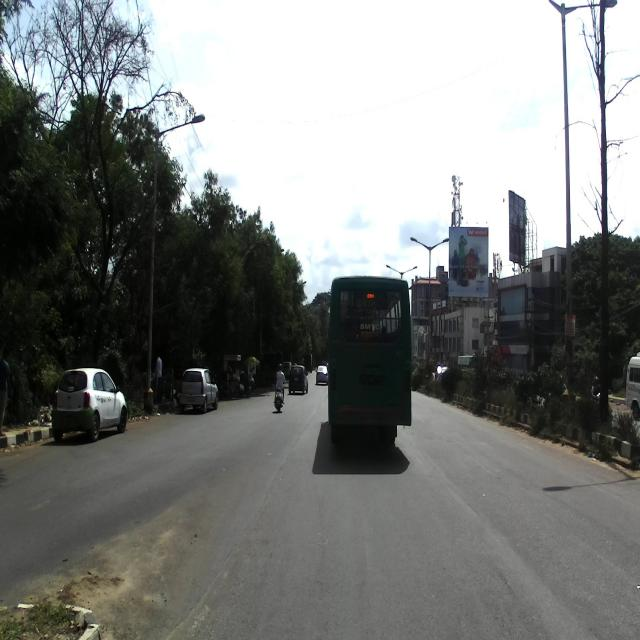Car_Nissan: (51, 367, 127, 442)
Car_TATA: (180, 365, 219, 412)
bus: (324, 273, 412, 445)
